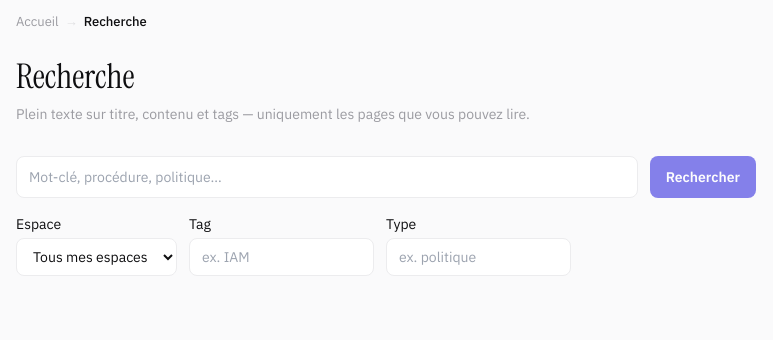
it: SearchPage › affiche un état vide propre sans erreur
The width and height of the screenshot is (773, 340).
Type "xyzzy" into the field named "requête" at (327, 177), box [16,156,638,198]
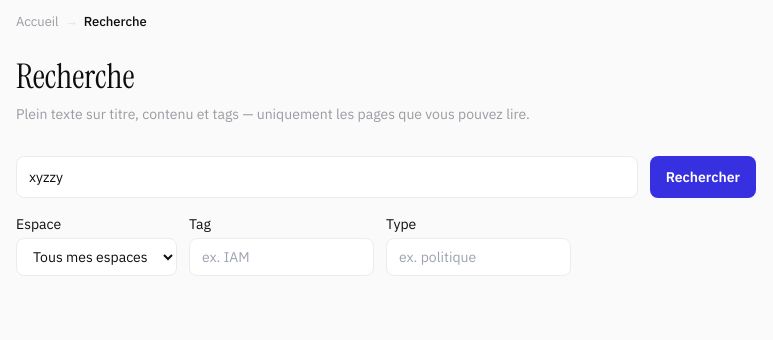
Click the button "Rechercher" at (703, 177), box [650,156,756,198]
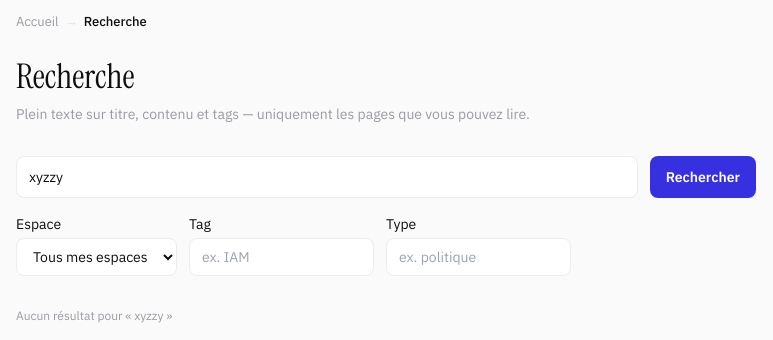
Result: the text "Aucun résultat pour « xyzzy »" is shown at [16,308,172,323]
